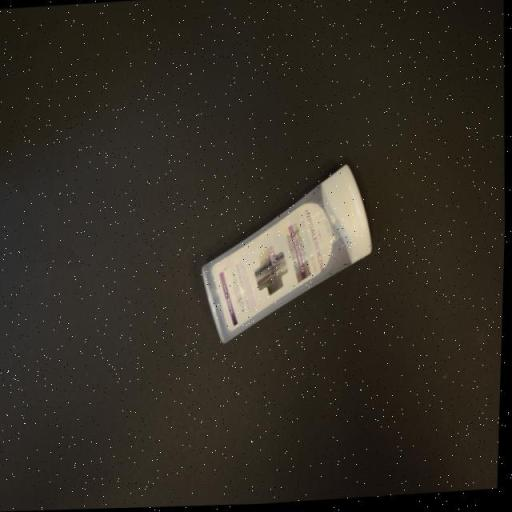plastic: (198, 156, 384, 352)
